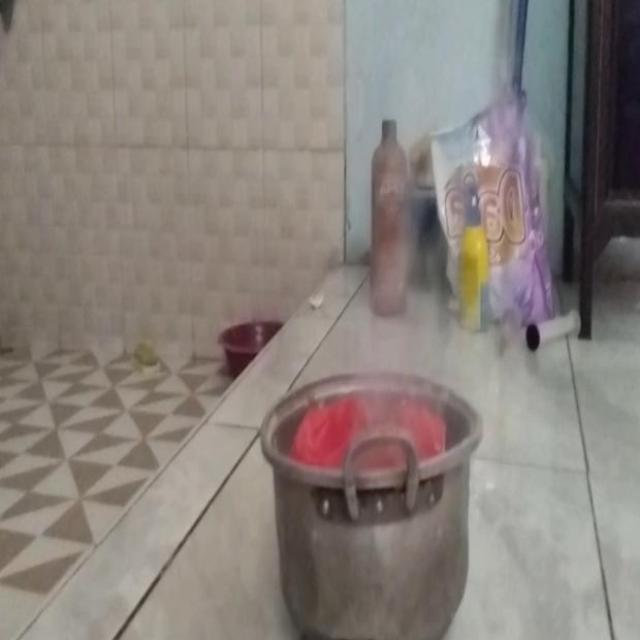fire: (368, 20, 476, 432)
